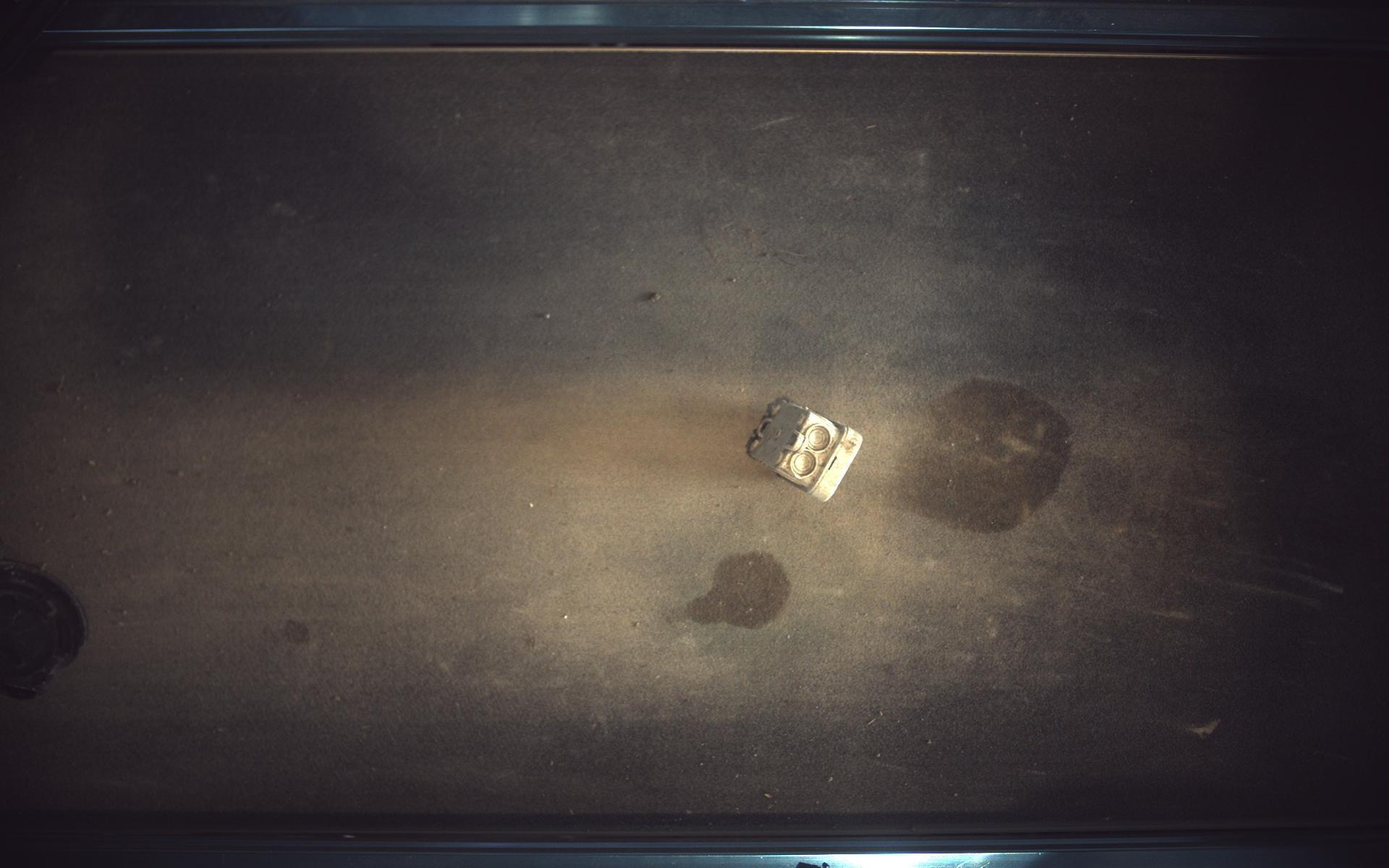plastic: (748, 397, 864, 502)
